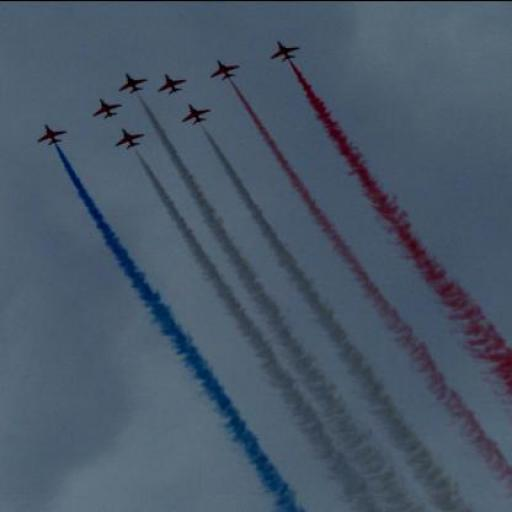aircraft: (157, 73, 189, 95), (115, 128, 145, 150), (271, 41, 301, 62), (210, 60, 240, 81), (37, 124, 67, 145), (182, 103, 210, 125), (118, 73, 147, 94), (93, 98, 122, 118)
